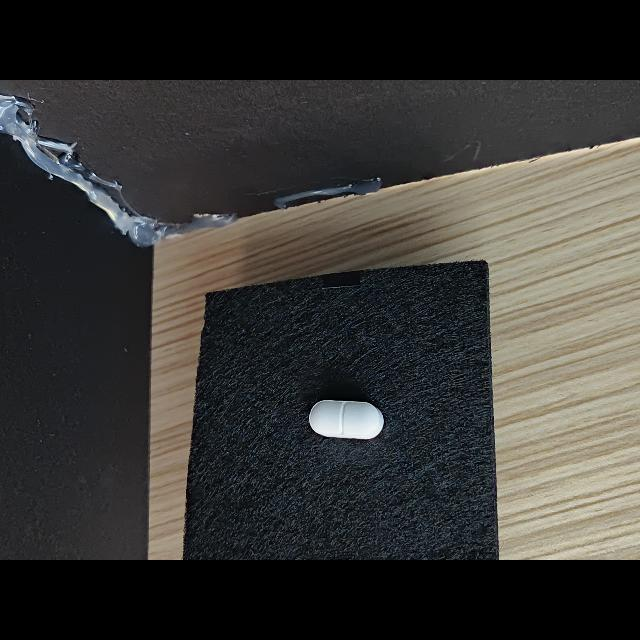Intact Pill: (309, 400, 384, 439)
